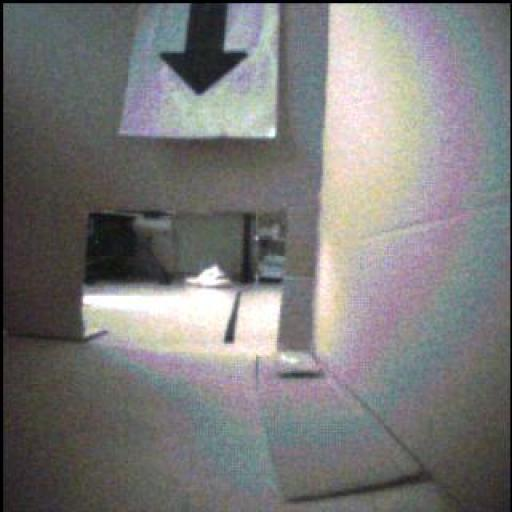arrow: (161, 5, 247, 96)
